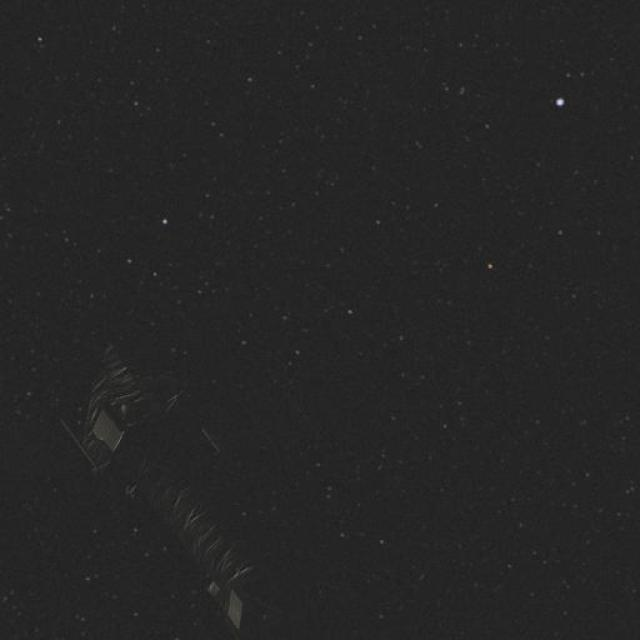xmm_newton: (76, 312, 296, 640)
